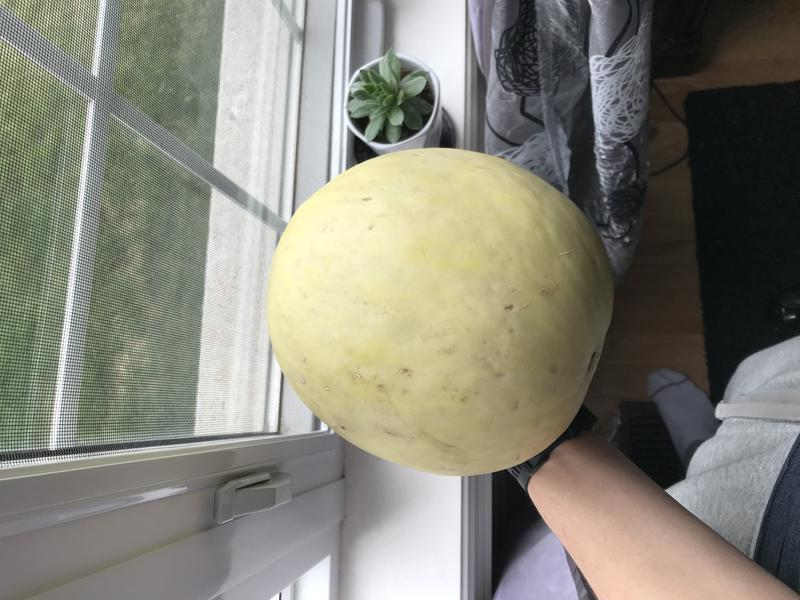honeydew: (261, 141, 622, 492)
